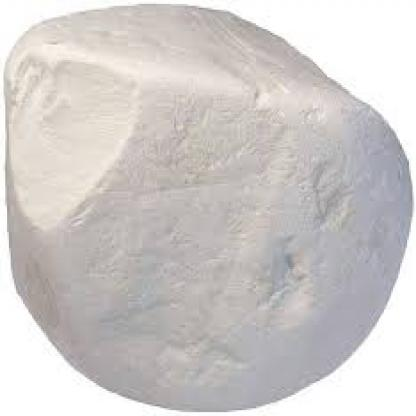Sedimentary_Chalk: (2, 2, 414, 414)
